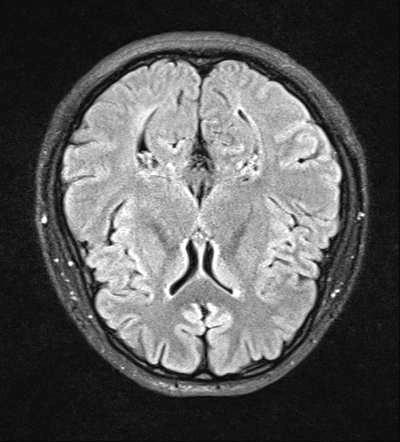Normal_Brain: (33, 1, 400, 399)
